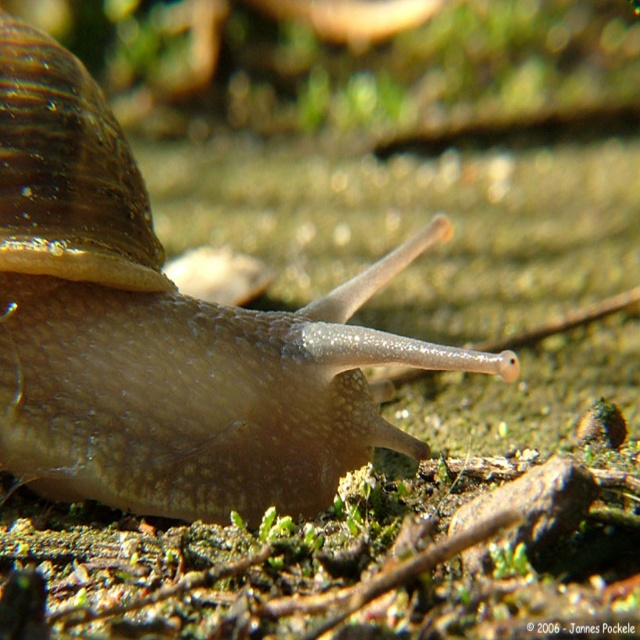Snail: (0, 6, 524, 531)
